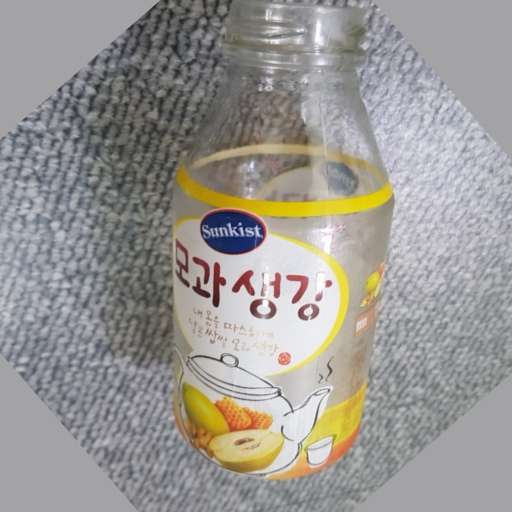Glass_4: (165, 2, 396, 479)
